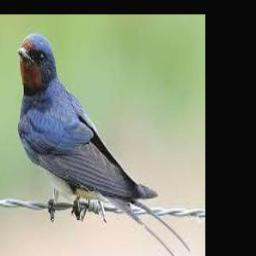Swallow: (17, 33, 191, 256)
